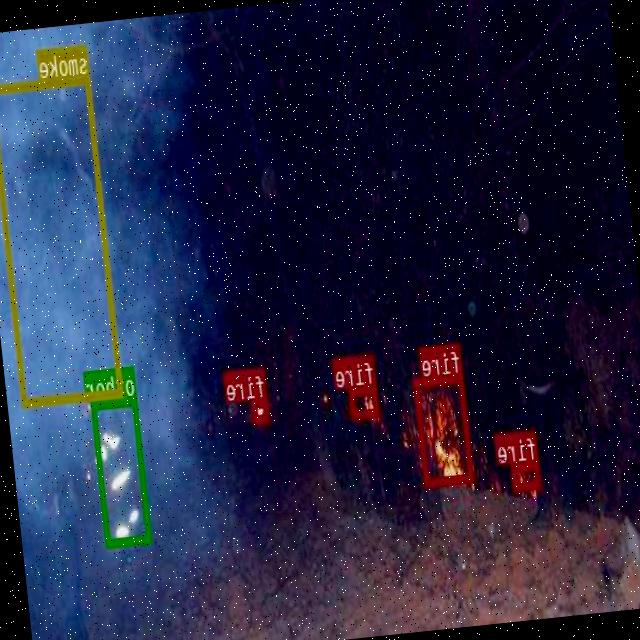fire: (414, 372, 474, 486), (349, 383, 380, 418), (512, 460, 542, 490), (252, 396, 270, 422)
smoke: (0, 74, 123, 405)
